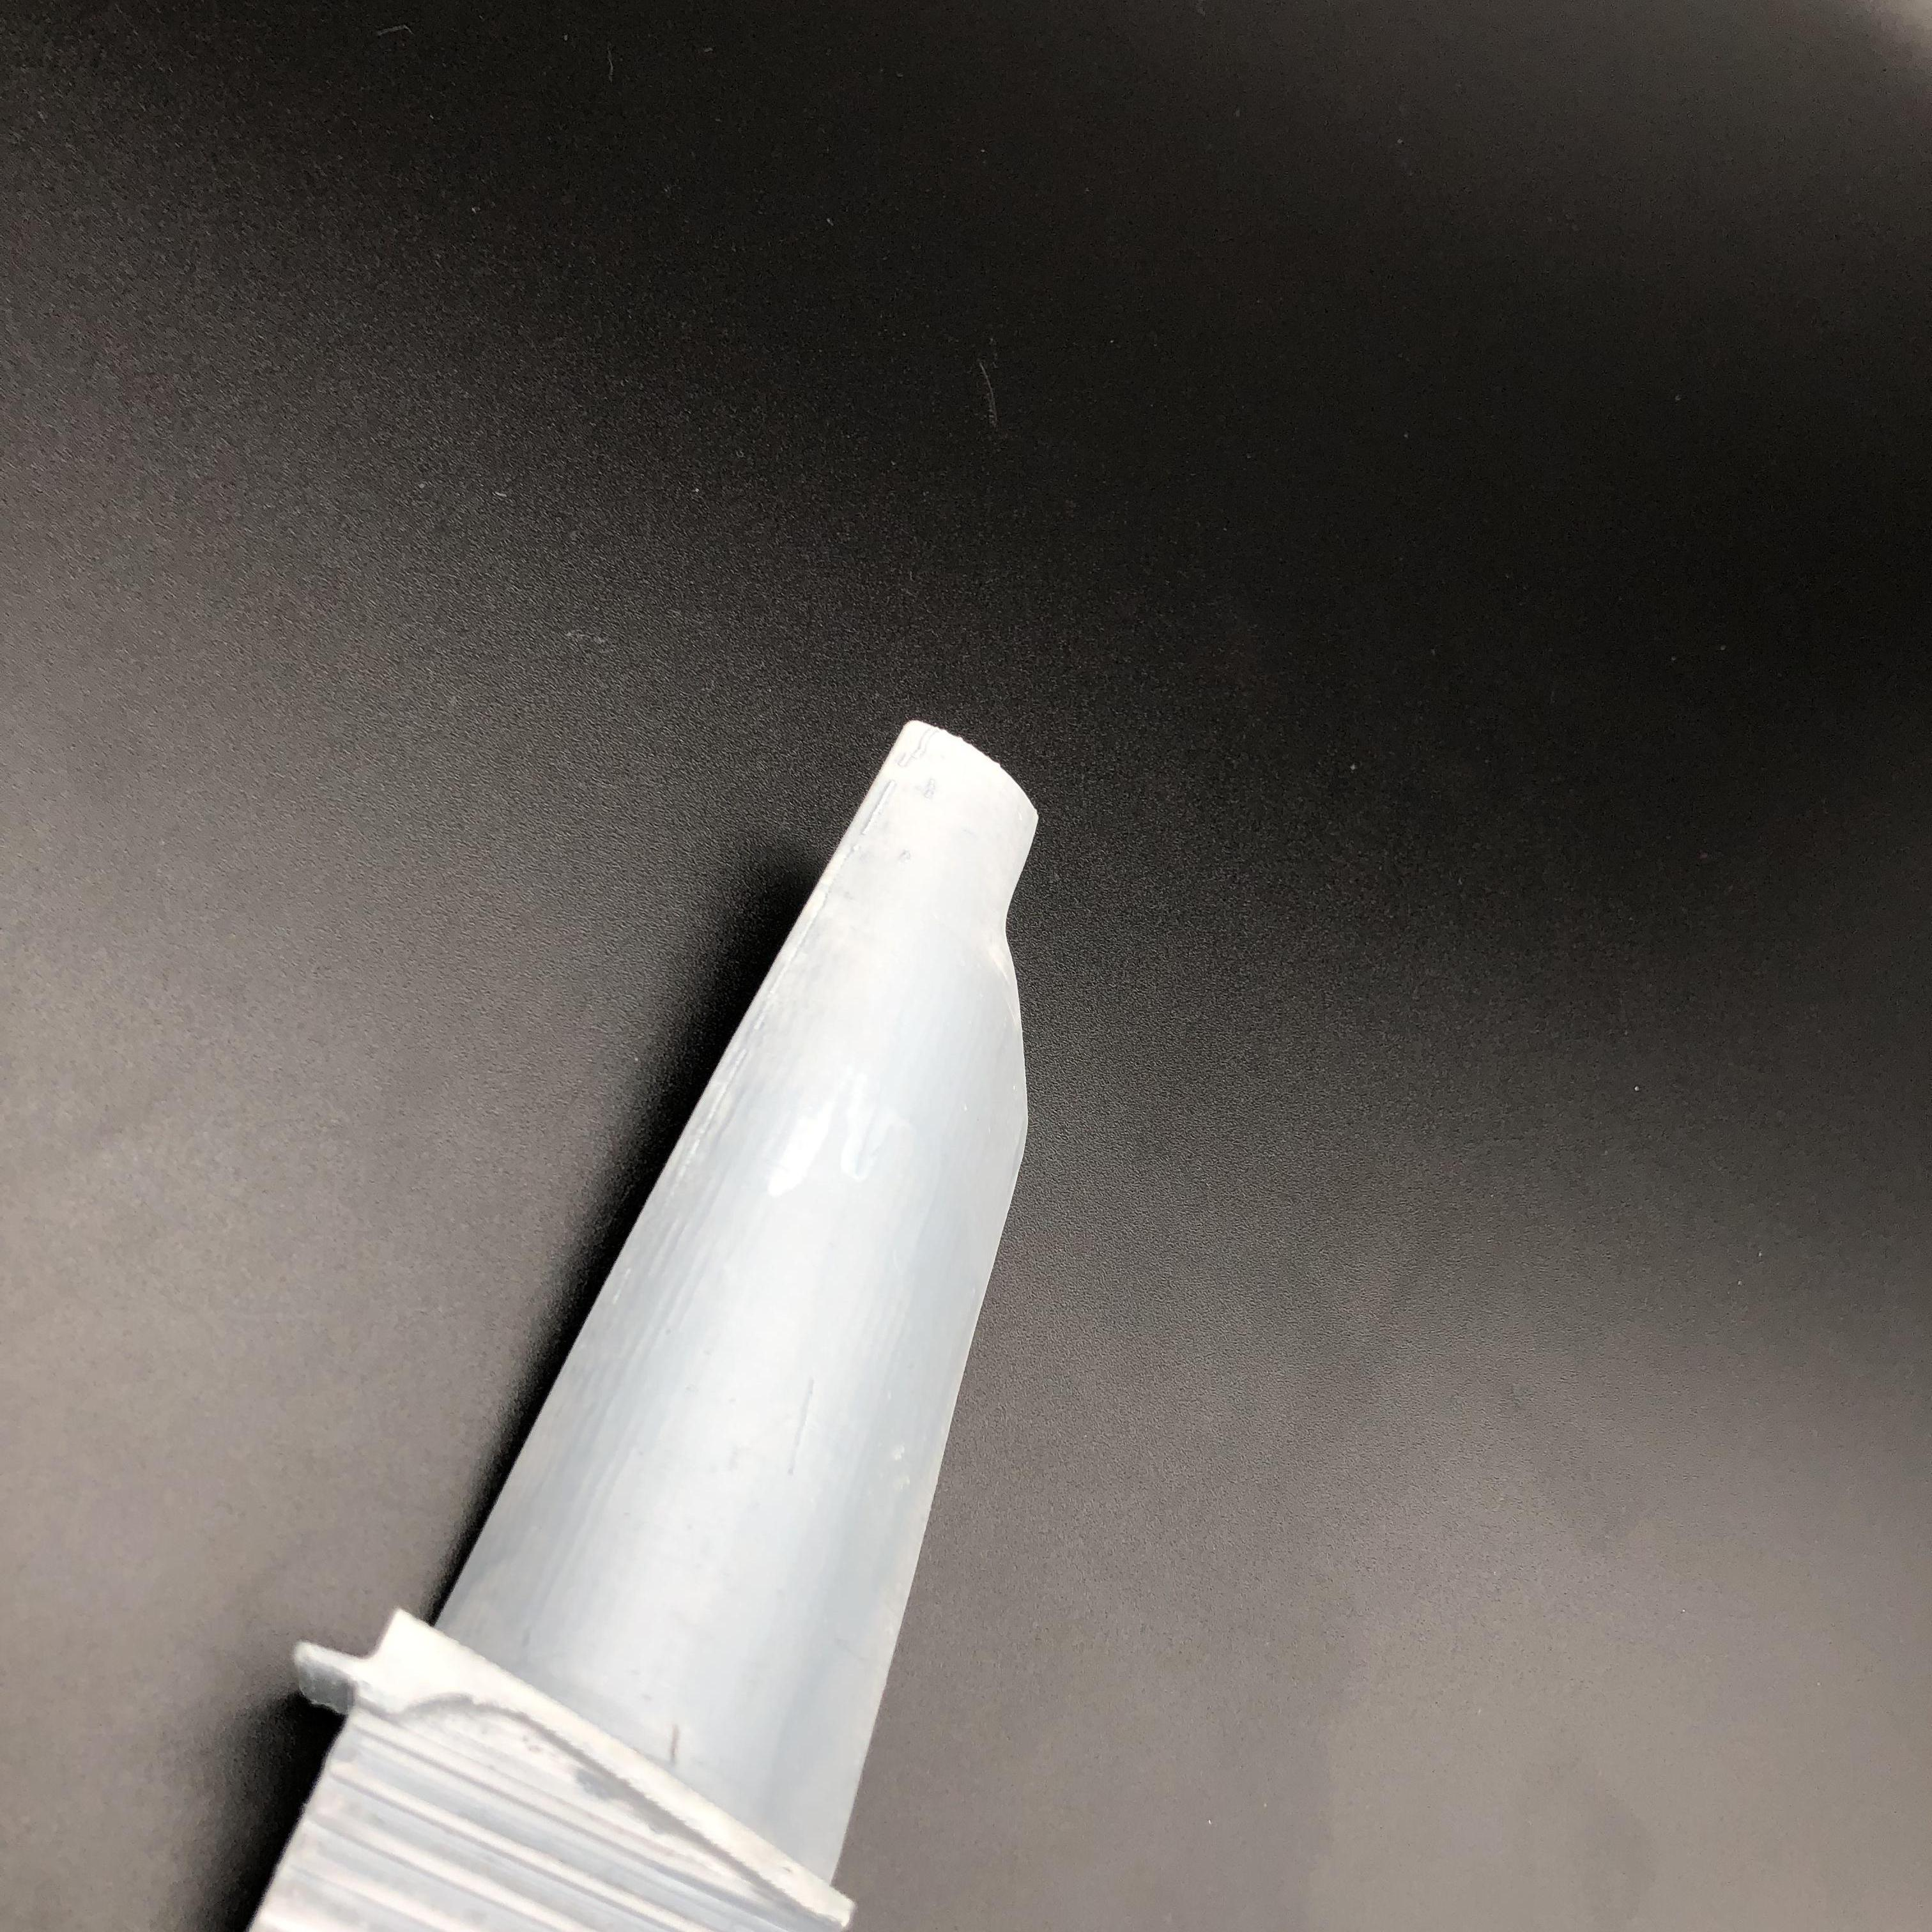fracture: (996, 814, 1100, 1150)
